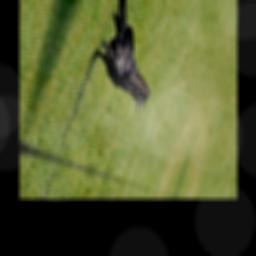Crow: (79, 0, 178, 117)
